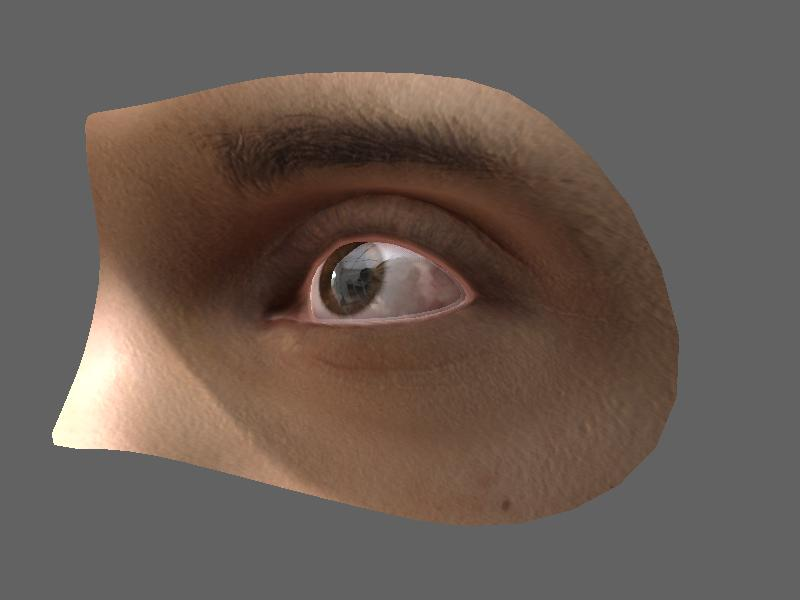iris: (320, 240, 386, 313)
